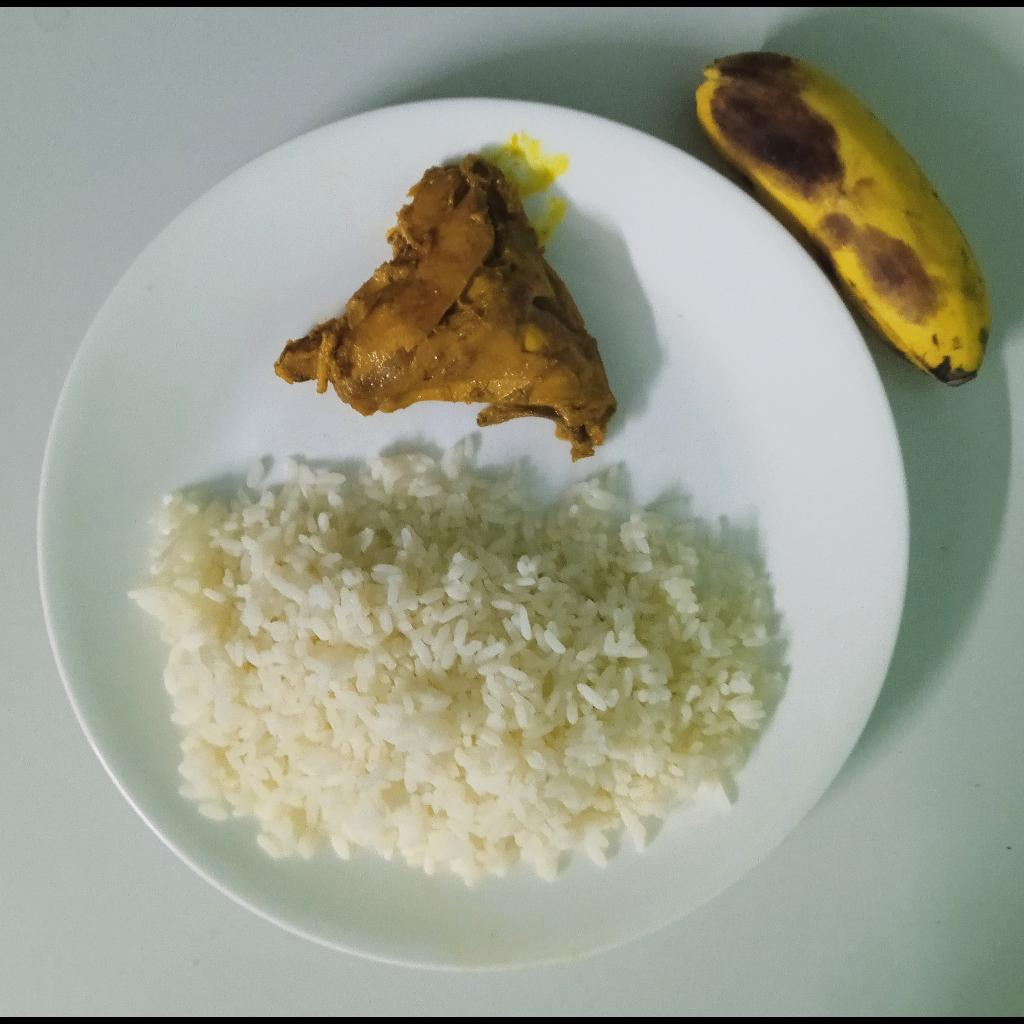banana: (696, 51, 991, 386)
chicken: (272, 155, 617, 460)
rice: (124, 435, 784, 888)
